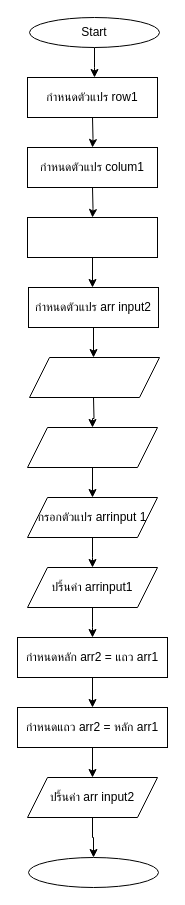
Image size: 185x905. Some labels were removed from this diagram. The shapes that lost their labels are listed below. From the top down, each one's box as (x1, y1, x2, y2) in pixels, then its label:
(26, 216, 158, 258): กำหนดตัวแปร arr input1
(28, 356, 160, 398): กรอกตัวแปร row1
(26, 426, 158, 468): กรอกตัวแปร colum1
(28, 856, 158, 888): END
